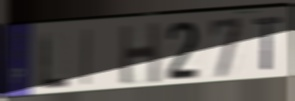2: (165, 20, 200, 83)
7: (208, 15, 244, 80)
H: (119, 19, 162, 87)
I: (81, 27, 94, 89)
L: (39, 30, 71, 92)
T: (252, 14, 285, 73)
